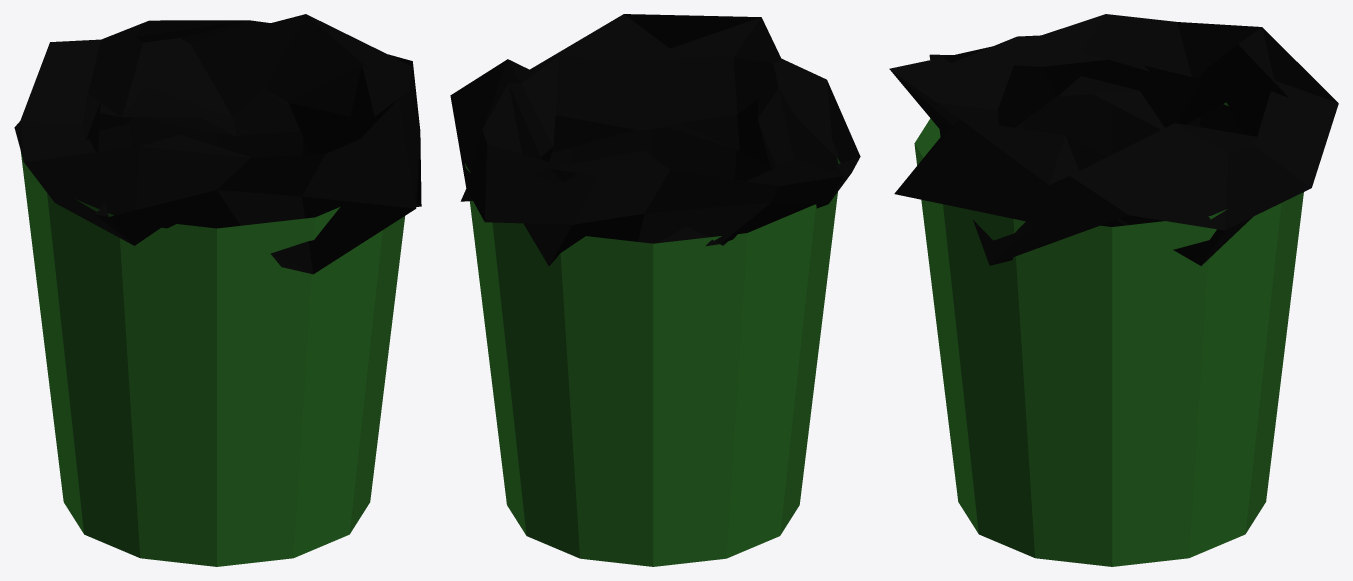
Rendered from TrashBin.fbx.
3 renders of one model, left to right at view 1: azimuth 30°, elevation 25°; view 2: azimuth 150°, elevation 25°; view 3: azimuth 270°, elevation 25°, orthographic. The views are drawn at different scales.
Visible parts, largest first — view 1: Cylinder.002, Torus.001, Cylinder.005; view 2: Cylinder.002, Torus.001, Cylinder.005; view 3: Cylinder.002, Torus.001, Cylinder.005.
Boxes of the visible parts, x1,y1,x2,y2 form: Cylinder.002: (20,151,404,566); Torus.001: (14,14,421,274); Cylinder.005: (98,117,320,157); Cylinder.002: (465,158,840,566); Torus.001: (450,14,860,266); Cylinder.005: (549,127,772,181); Cylinder.002: (914,102,1303,566); Torus.001: (889,14,1338,265); Cylinder.005: (1014,94,1243,157).
Bounding box in the file's own units: 47.68 × 49.61 × 46.19.
